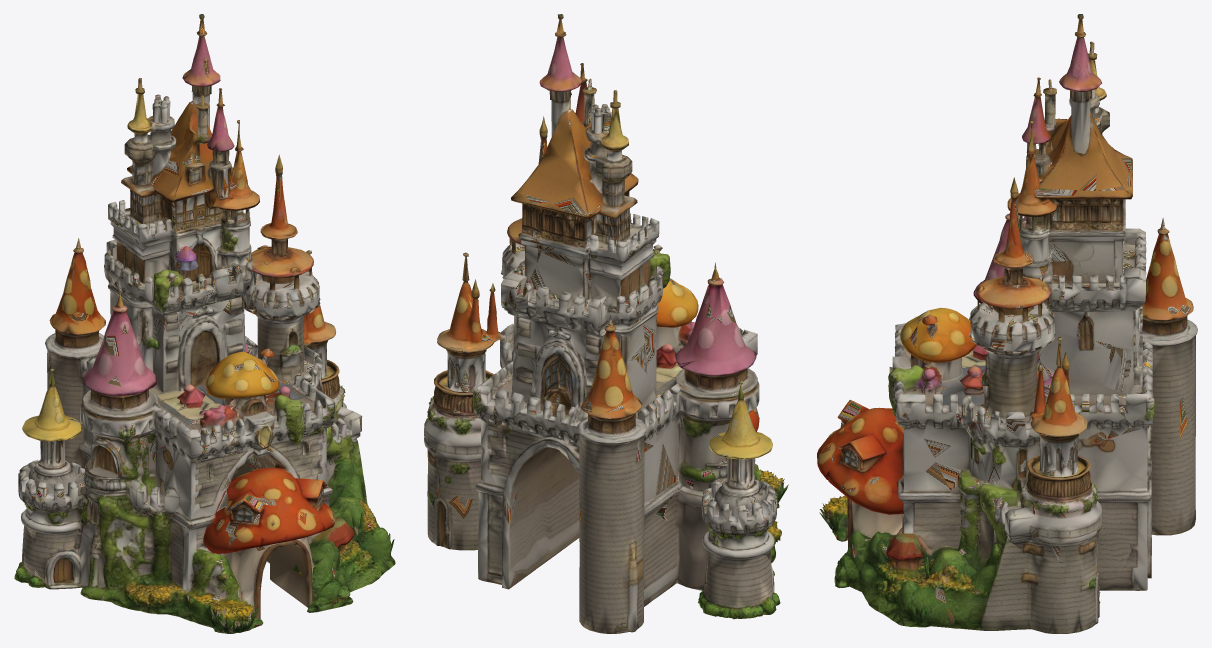
Rendered from castle.glb.
3 renders of one model, left to right at view 1: azimuth 30°, elevation 25°; view 2: azimuth 150°, elevation 25°; view 3: azimuth 270°, elevation 25°, orthographic. The views are drawn at different scales.
Visible parts, largest first — view 1: tripo_node_6b4ad14a-14f5-4cfa-b92a-e81e49fcb250; view 2: tripo_node_6b4ad14a-14f5-4cfa-b92a-e81e49fcb250; view 3: tripo_node_6b4ad14a-14f5-4cfa-b92a-e81e49fcb250.
Boxes of the visible parts, bbox=[...] form: tripo_node_6b4ad14a-14f5-4cfa-b92a-e81e49fcb250: bbox=[14, 14, 395, 633]; tripo_node_6b4ad14a-14f5-4cfa-b92a-e81e49fcb250: bbox=[424, 14, 788, 633]; tripo_node_6b4ad14a-14f5-4cfa-b92a-e81e49fcb250: bbox=[817, 14, 1197, 633].
Size of the model in its own units: 0.6557 by 0.9983 by 0.622.
1 material, 1 textured.
